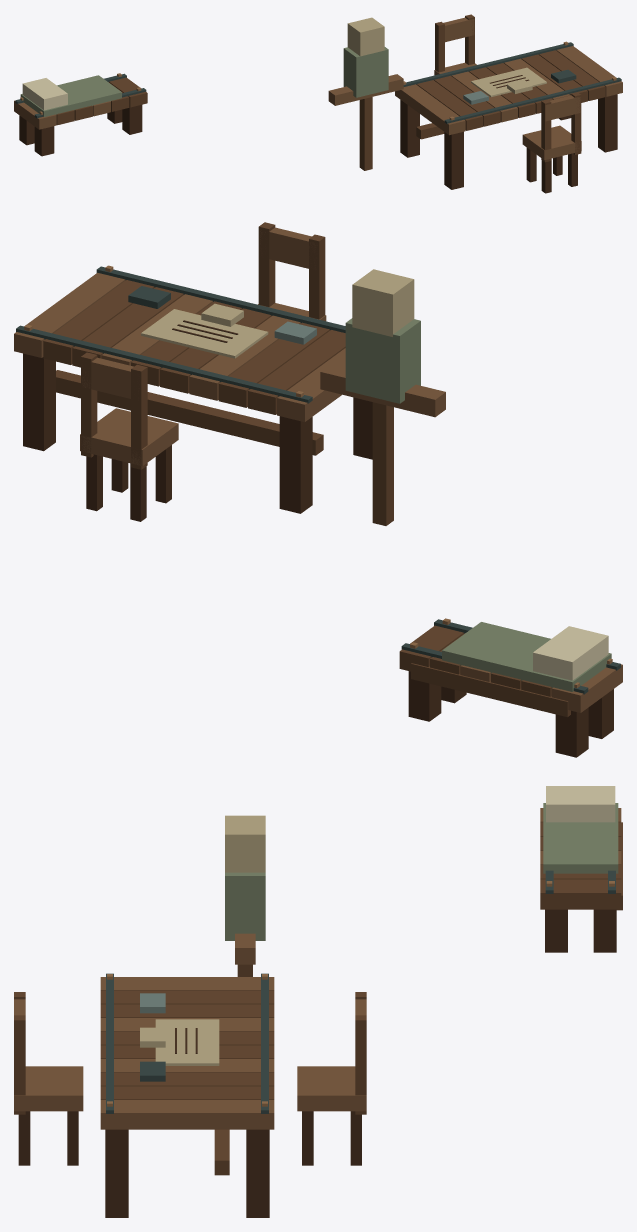
File: B34_rps.glb
The picture shows the model from 3 angles, top to bottom: view 1: azimuth 30°, elevation 25°; view 2: azimuth 150°, elevation 25°; view 3: azimuth 270°, elevation 25°; orthographic projection. The views are drawn at different scales.
Parts seen in each view (by area): view 1: B34_rps__main_station_TableTop_wood, B34_rps__main_station_TableTop_woodlight, B34_rps__main_station_TableLegs_wooddark, B34_rps__main_station_ScarecrowBody_cloth, B34_rps__main_station_ChairBack_wood, B34_rps__visitors_Blanket_cloth, B34_rps__main_station_TableBands_iron, B34_rps__visitors_TableLegs_wooddark, B34_rps__main_station_Seat_woodlight, B34_rps__main_station_ChairBack_woodlight, B34_rps__main_station_StrawHead_paper, B34_rps__main_station_SeatLegs_wooddark (+8 smaller); view 2: B34_rps__main_station_TableTop_wood, B34_rps__main_station_TableTop_woodlight, B34_rps__main_station_TableLegs_wooddark, B34_rps__main_station_ChairBack_wood, B34_rps__main_station_ScarecrowBody_cloth, B34_rps__visitors_Blanket_cloth, B34_rps__main_station_TableRail_wood, B34_rps__main_station_TableBands_iron, B34_rps__visitors_TableLegs_wooddark, B34_rps__main_station_StrawHead_paper, B34_rps__main_station_Seat_woodlight, B34_rps__main_station_SeatLegs_wooddark (+9 smaller); view 3: B34_rps__main_station_TableTop_wood, B34_rps__main_station_TableTop_woodlight, B34_rps__main_station_Seat_woodlight, B34_rps__main_station_TableLegs_wooddark, B34_rps__visitors_Blanket_cloth, B34_rps__visitors_TableTop_wood, B34_rps__main_station_Paper_paper, B34_rps__main_station_ScarecrowBody_cloth, B34_rps__main_station_SeatLegs_wooddark, B34_rps__visitors_Cushion_bone, B34_rps__main_station_StrawHead_paper, B34_rps__main_station_ChairBack_wood (+4 smaller).
Boxes of the visible parts, box(x1,y1,x2,y2) form: B34_rps__main_station_TableTop_wood: box(416, 50, 605, 130); B34_rps__main_station_TableTop_woodlight: box(395, 46, 622, 135); B34_rps__main_station_TableLegs_wooddark: box(400, 94, 617, 189); B34_rps__main_station_ScarecrowBody_cloth: box(343, 47, 388, 97); B34_rps__main_station_ChairBack_wood: box(435, 14, 581, 162); B34_rps__visitors_Blanket_cloth: box(20, 75, 121, 117); B34_rps__main_station_TableBands_iron: box(403, 42, 621, 123); B34_rps__visitors_TableLegs_wooddark: box(19, 104, 142, 156); B34_rps__main_station_Seat_woodlight: box(434, 62, 581, 160); B34_rps__main_station_ChairBack_woodlight: box(443, 17, 580, 121); B34_rps__main_station_StrawHead_paper: box(347, 17, 384, 56); B34_rps__main_station_SeatLegs_wooddark: box(526, 147, 577, 193); B34_rps__main_station_TableTop_wood: box(43, 280, 345, 414); B34_rps__main_station_TableTop_woodlight: box(14, 272, 345, 422); B34_rps__main_station_TableLegs_wooddark: box(23, 353, 372, 513); B34_rps__main_station_ChairBack_wood: box(81, 222, 325, 469); B34_rps__main_station_ScarecrowBody_cloth: box(345, 318, 420, 403); B34_rps__visitors_Blanket_cloth: box(442, 622, 611, 691); B34_rps__main_station_TableRail_wood: box(56, 370, 323, 455); B34_rps__main_station_TableBands_iron: box(16, 266, 345, 403); B34_rps__visitors_TableLegs_wooddark: box(408, 671, 613, 757); B34_rps__main_station_StrawHead_paper: box(352, 269, 414, 336); B34_rps__main_station_Seat_woodlight: box(80, 303, 326, 466); B34_rps__main_station_SeatLegs_wooddark: box(86, 445, 171, 521); B34_rps__main_station_TableTop_wood: box(100, 990, 274, 1099); B34_rps__main_station_TableTop_woodlight: box(100, 977, 274, 1129); B34_rps__main_station_Seat_woodlight: box(14, 1066, 366, 1111); B34_rps__main_station_TableLegs_wooddark: box(105, 1129, 269, 1217); B34_rps__visitors_Blanket_cloth: box(543, 803, 618, 873); B34_rps__visitors_TableTop_wood: box(540, 822, 621, 909); B34_rps__main_station_Paper_paper: box(155, 1019, 219, 1065); B34_rps__main_station_ScarecrowBody_cloth: box(225, 872, 265, 940); B34_rps__main_station_SeatLegs_wooddark: box(18, 1111, 361, 1165); B34_rps__visitors_Cushion_bone: box(546, 786, 615, 822); B34_rps__main_station_StrawHead_paper: box(225, 815, 265, 872); B34_rps__main_station_ChairBack_wood: box(14, 992, 366, 1114).
Size of the model in its own units: 7.18 by 2.2 by 5.26.
